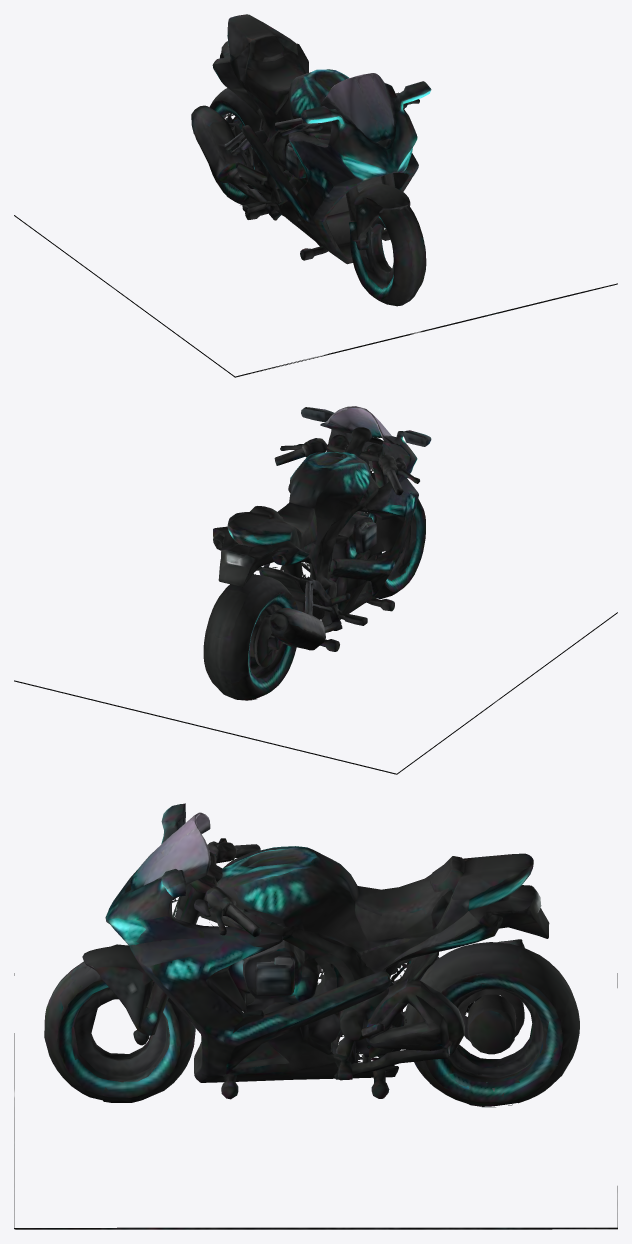
Rendered from cycle.glb.
3 views of the same model, one above another, from view 1: azimuth 30°, elevation 25°; view 2: azimuth 150°, elevation 25°; view 3: azimuth 270°, elevation 25° (orthographic). The views are drawn at different scales.
Parts seen in each view (by area): view 1: geometry_0; view 2: geometry_0; view 3: geometry_0.
Boxes of the visible parts, x1=… form: geometry_0: x1=14, y1=14, x2=617, y2=377; geometry_0: x1=14, y1=406, x2=617, y2=774; geometry_0: x1=14, y1=803, x2=617, y2=1229.
Bounding box in the file's own units: 1 × 0.5189 × 1.
1 material, 1 textured.
